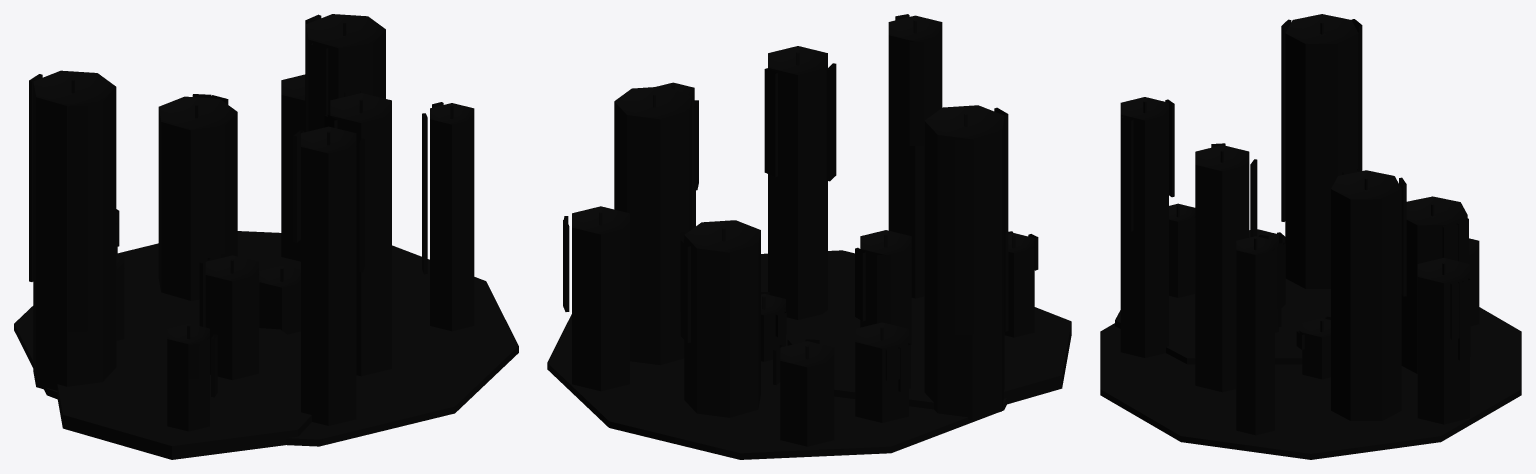
File: SM_candle_cluster.fbx
3 views of the same model, side by side, from view 1: azimuth 30°, elevation 25°; view 2: azimuth 150°, elevation 25°; view 3: azimuth 270°, elevation 25° (orthographic). The views are drawn at different scales.
Parts seen in each view (by area): view 1: candle_cluster; view 2: candle_cluster; view 3: candle_cluster.
Boxes of the visible parts, x1,y1,x2,y2 form: candle_cluster: (14,14,518,459); candle_cluster: (547,14,1071,459); candle_cluster: (1100,14,1521,459).
Bounding box in the file's own units: 0.42 × 0.2632 × 0.3804.
